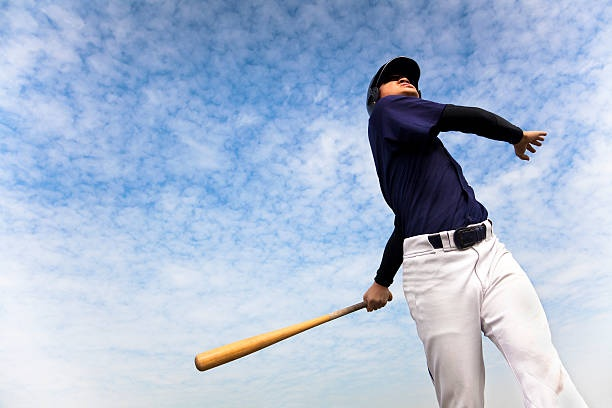bita: (187, 288, 388, 371)
